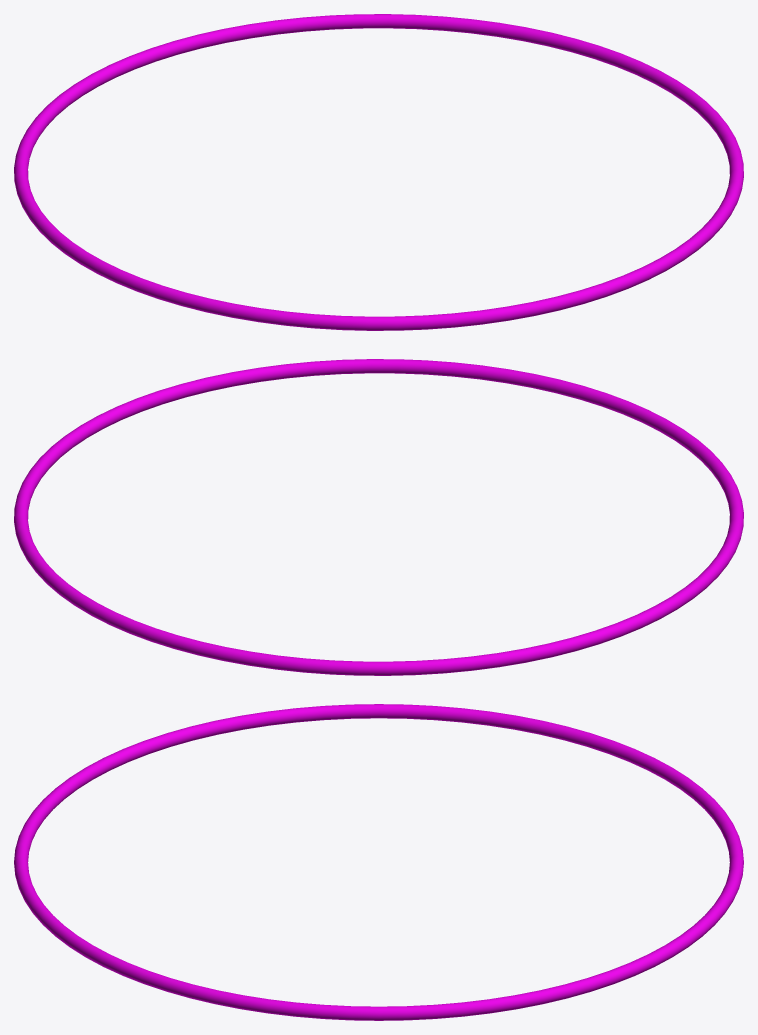
The picture shows the model from 3 angles, top to bottom: view 1: azimuth 30°, elevation 25°; view 2: azimuth 150°, elevation 25°; view 3: azimuth 270°, elevation 25°; orthographic projection.
Visible parts, largest first — view 1: tube; view 2: tube; view 3: tube.
Part boxes in pixels (bbox=[...]): tube: bbox=[14, 14, 743, 330]; tube: bbox=[14, 359, 743, 675]; tube: bbox=[14, 704, 743, 1020].
Size of the model in its own units: 1000 by 19.61 by 1000.
